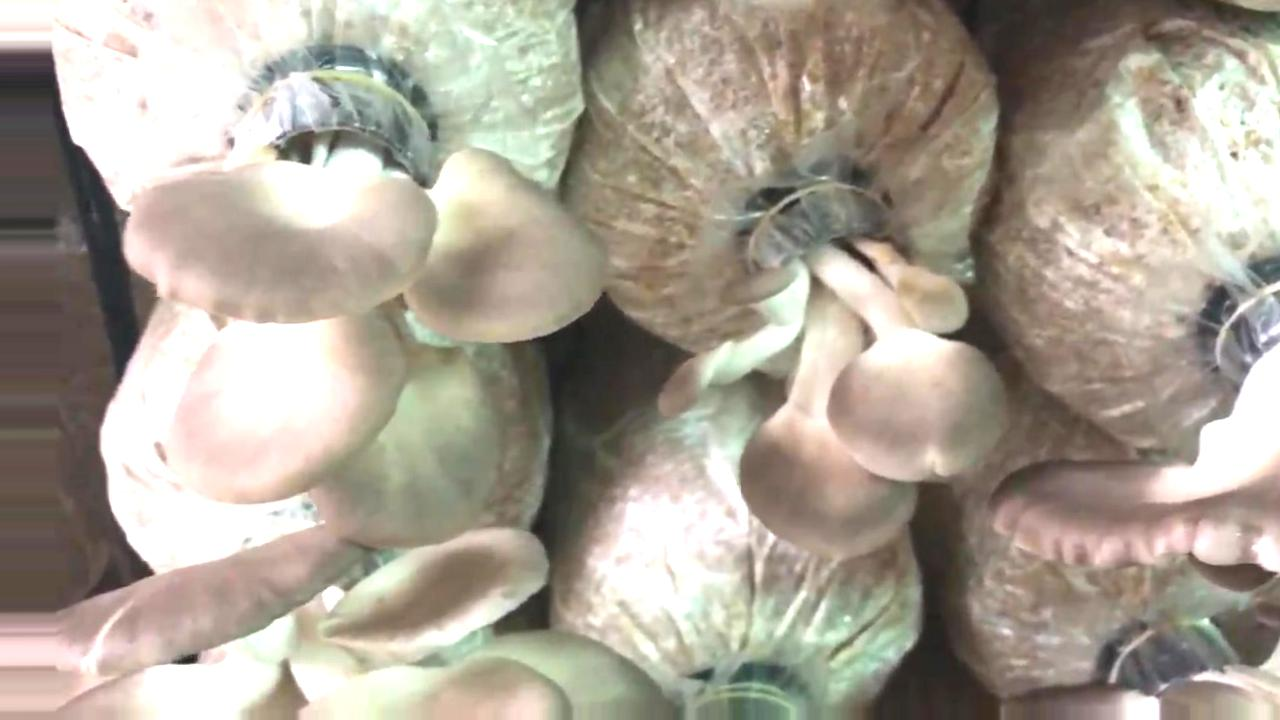nam: (117, 35, 607, 552), (657, 162, 1006, 562), (27, 516, 675, 720), (1009, 306, 1280, 559)
